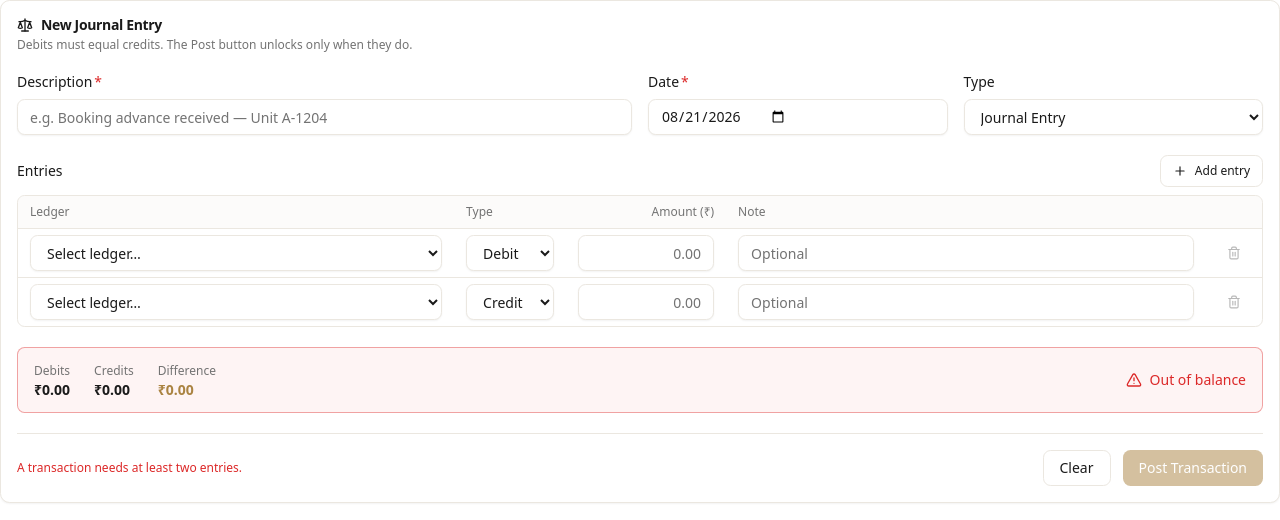
Double-entry journal form — the balance gate › ALLOWS submission once debits equal credits exactly
This screenshot has width=1280, height=520.
Select "1100 — Bank — Current" in the dropdown named "Ledger for entry 1" at [236, 253], box x1=30 y1=235 x2=442 y2=271
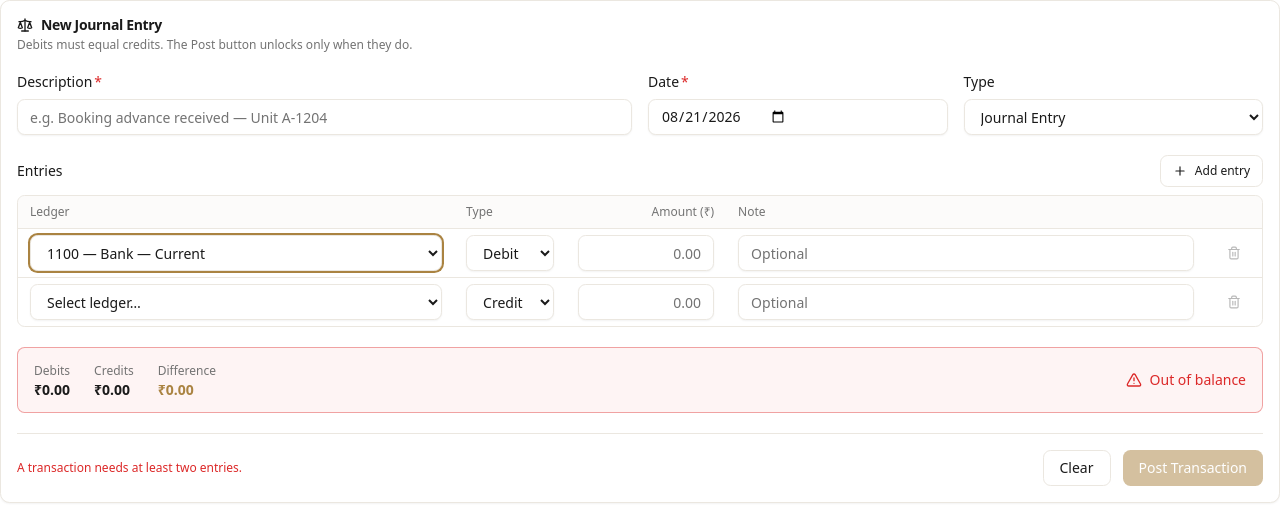
Select "4100 — Sales Revenue" in the dropdown named "Ledger for entry 2" at [236, 302], box x1=30 y1=284 x2=442 y2=320
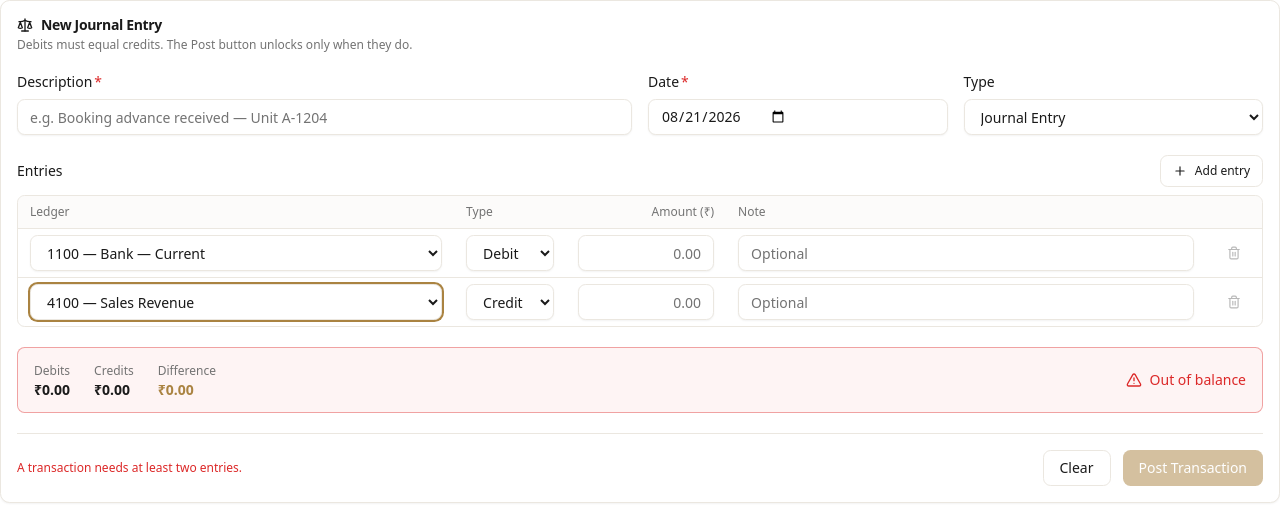
Type "Booking receipt — Unit 304" into the field labelled "Description*" at [324, 117], box x1=17 y1=99 x2=632 y2=135
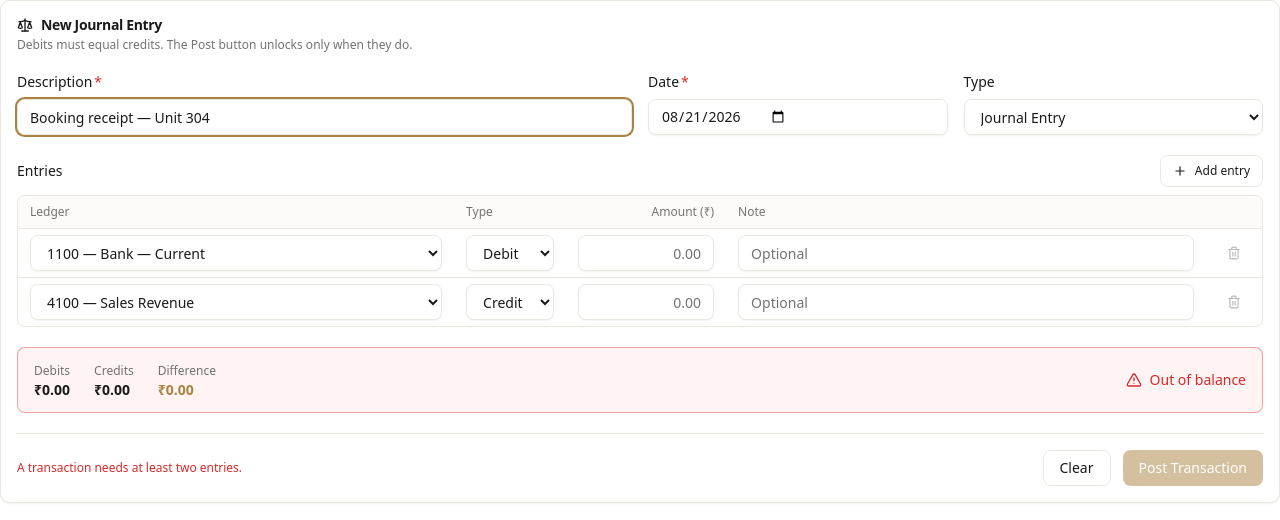
Type "1000.00" into the field named "amount" at [646, 253], box x1=578 y1=235 x2=714 y2=271
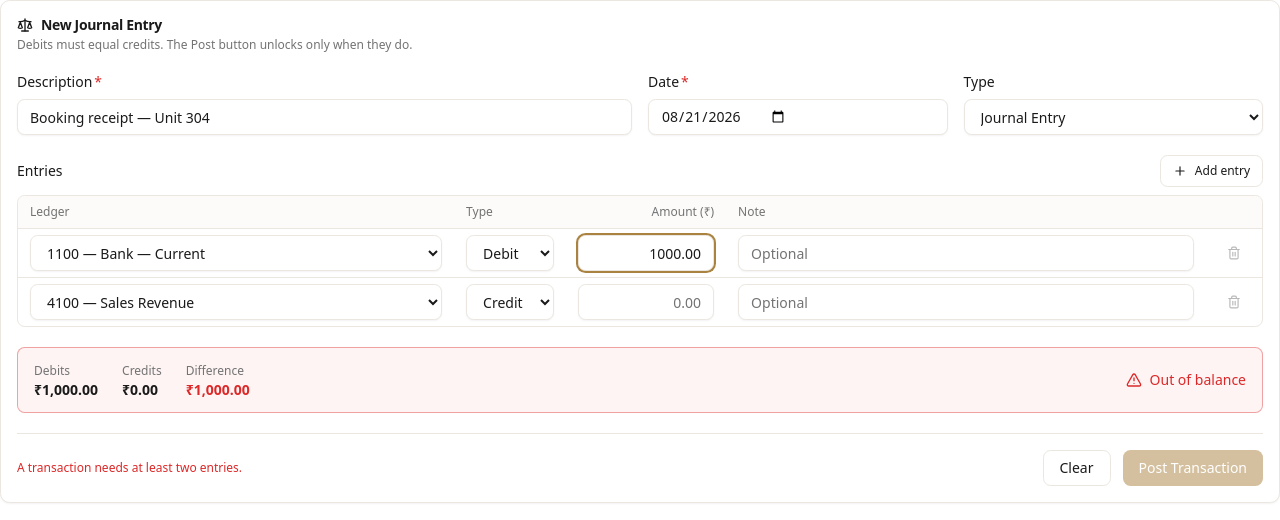
Type "1000.00" into the field named "amount" at [646, 302], box x1=578 y1=284 x2=714 y2=320
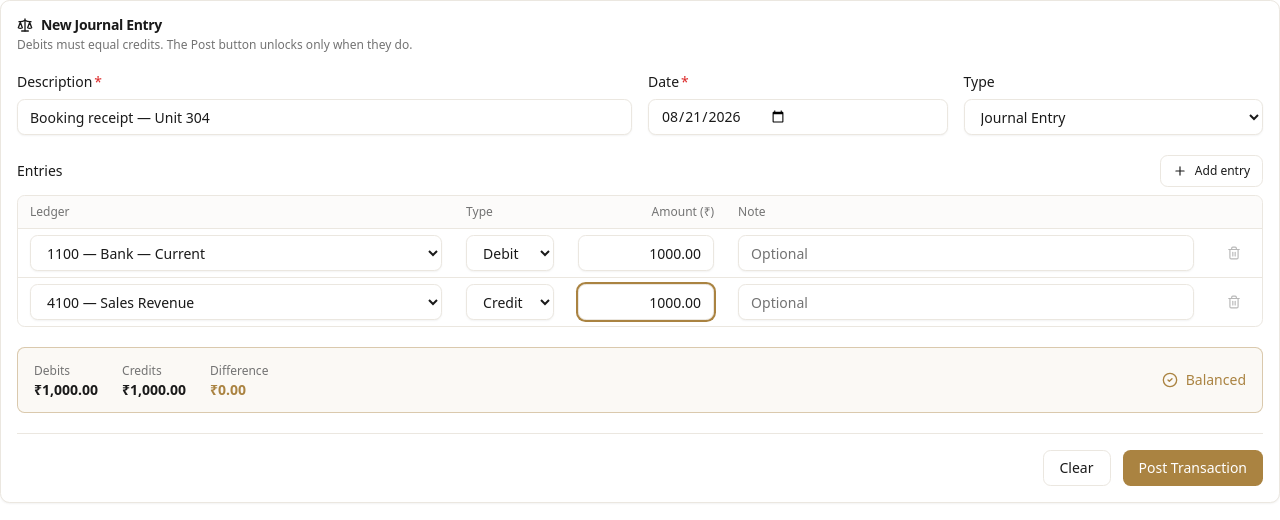
Now the button "Post Transaction" is enabled, box x1=1122 y1=450 x2=1263 y2=486
